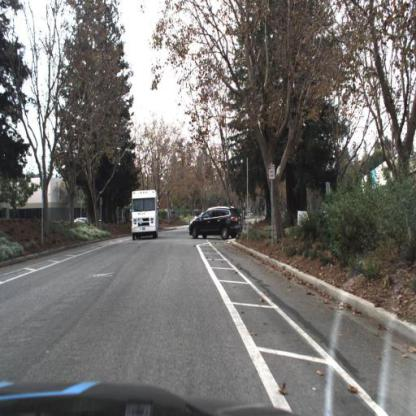car: (188, 204, 246, 242), (78, 218, 90, 224)
truck: (131, 189, 159, 244)
